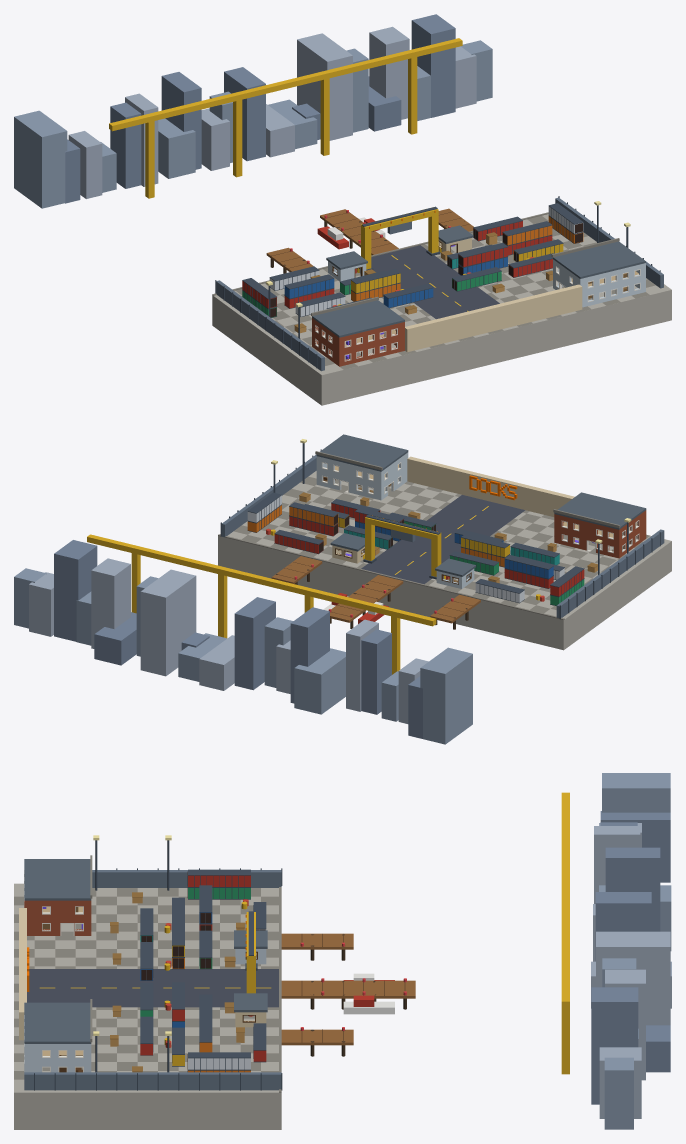
File: docks.glb
3 renders of one model, top to bottom at view 1: azimuth 30°, elevation 25°; view 2: azimuth 150°, elevation 25°; view 3: azimuth 270°, elevation 25°, orthographic. The views are drawn at different scales.
Visible parts, largest first — view 1: docks_Ground_quay, docks_Scenery_far3, docks_Scenery_far2, docks_Scenery_far1, docks_Scenery_yellow, docks_ContDetail_steelDark, docks_Buildings_plasterD, docks_Ground_asphalt, docks_Buildings_roofG, docks_Ground_quayDark, docks_Fences_fence, docks_Buildings_brickD (+12 smaller); view 2: docks_Ground_quay, docks_Scenery_far3, docks_Scenery_far2, docks_Scenery_far1, docks_Ground_quayDark, docks_ContDetail_steelDark, docks_Scenery_yellow, docks_Ground_asphalt, docks_Buildings_plasterD, docks_Buildings_roofG, docks_Fences_fence, docks_Piers_wood (+14 smaller); view 3: docks_Ground_quay, docks_Ground_quayDark, docks_Scenery_far2, docks_Scenery_far3, docks_Ground_asphalt, docks_Fences_fence, docks_ContDetail_steelDark, docks_Scenery_far1, docks_Buildings_roofG, docks_Piers_wood, docks_Scenery_yellow, docks_Buildings_brickD (+12 smaller).
Part boxes in pixels (box(x1,y1,x2,y2)): docks_Ground_quay: box(212, 214, 671, 405); docks_Scenery_far3: box(68, 26, 476, 198); docks_Scenery_far2: box(65, 14, 455, 203); docks_Scenery_far1: box(14, 40, 492, 208); docks_Scenery_yellow: box(109, 38, 462, 198); docks_ContDetail_steelDark: box(242, 203, 583, 317); docks_Buildings_plasterD: box(405, 284, 582, 352); docks_Ground_asphalt: box(371, 245, 499, 319); docks_Buildings_roofG: box(312, 241, 645, 337); docks_Ground_quayDark: box(212, 212, 655, 369); docks_Fences_fence: box(216, 197, 663, 371); docks_Buildings_brickD: box(312, 318, 404, 366); docks_Ground_quay: box(218, 471, 671, 650); docks_Scenery_far3: box(29, 558, 428, 723); docks_Scenery_far2: box(54, 540, 422, 738); docks_Scenery_far1: box(14, 568, 472, 744); docks_Ground_quayDark: box(218, 476, 649, 619); docks_ContDetail_steelDark: box(247, 492, 584, 605); docks_Scenery_yellow: box(87, 534, 436, 674); docks_Ground_asphalt: box(361, 495, 525, 584); docks_Buildings_plasterD: box(407, 456, 574, 516); docks_Buildings_roofG: box(316, 434, 646, 529); docks_Fences_fence: box(221, 454, 664, 618); docks_Piers_wood: box(271, 556, 480, 623); docks_Ground_quay: box(14, 883, 281, 1129); docks_Ground_quayDark: box(14, 887, 281, 1092); docks_Scenery_far2: box(591, 811, 670, 1104); docks_Scenery_far3: box(591, 823, 671, 1118); docks_Ground_asphalt: box(27, 969, 278, 1007); docks_Fences_fence: box(24, 870, 281, 1090); docks_ContDetail_steelDark: box(140, 869, 266, 1072); docks_Scenery_far1: box(599, 773, 671, 1129); docks_Buildings_roofG: box(24, 859, 91, 1043); docks_Piers_wood: box(281, 933, 415, 1045); docks_Scenery_yellow: box(561, 792, 569, 1074); docks_Buildings_brickD: box(24, 900, 91, 935).
Size of the model in its own units: 124 by 29.95 by 128.
